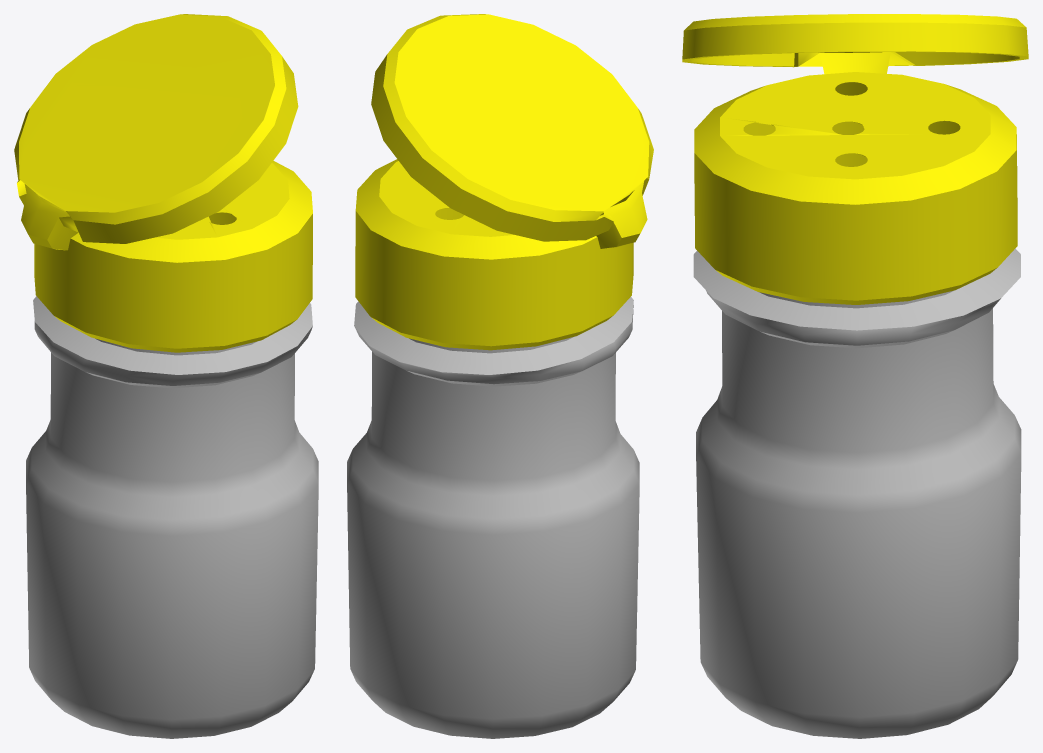
File: BEKAS LADA_04.FBX
3 renders of one model, left to right at view 1: azimuth 30°, elevation 25°; view 2: azimuth 150°, elevation 25°; view 3: azimuth 270°, elevation 25°, orthographic. The views are drawn at different scales.
Parts seen in each view (by area): view 1: Cylinder001; view 2: Cylinder001; view 3: Cylinder001.
Boxes of the visible parts, x1=… form: Cylinder001: x1=14, y1=14, x2=318, y2=738; Cylinder001: x1=347, y1=14, x2=653, y2=738; Cylinder001: x1=682, y1=14, x2=1028, y2=738.
Bounding box in the file's own units: 38.8 × 86.35 × 38.17.
